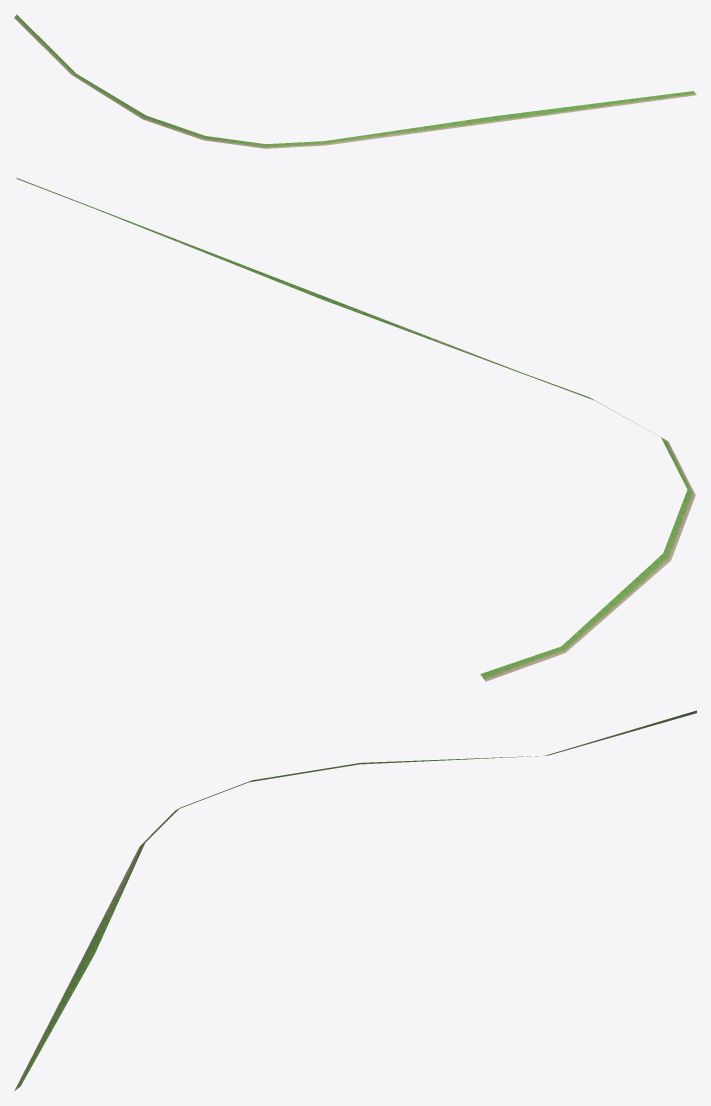
File: kd_stage_1364a3_11_29_bounded.glb
3 views of the same model, one above another, from view 1: azimuth 30°, elevation 25°; view 2: azimuth 150°, elevation 25°; view 3: azimuth 270°, elevation 25° (orthographic). The views are drawn at different scales.
Visible parts, largest first — view 1: kd_stage_1364a3_11_29_bounded; view 2: kd_stage_1364a3_11_29_bounded; view 3: kd_stage_1364a3_11_29_bounded.
Boxes of the visible parts, left/top/right/bottom form: kd_stage_1364a3_11_29_bounded: left=14, top=14, right=696, bottom=148; kd_stage_1364a3_11_29_bounded: left=16, top=177, right=695, bottom=681; kd_stage_1364a3_11_29_bounded: left=14, top=710, right=696, bottom=1090.
Bounding box in the file's own units: 36.42 × 2.13 × 30.87.
Materials: 1 (1 with a texture image).
